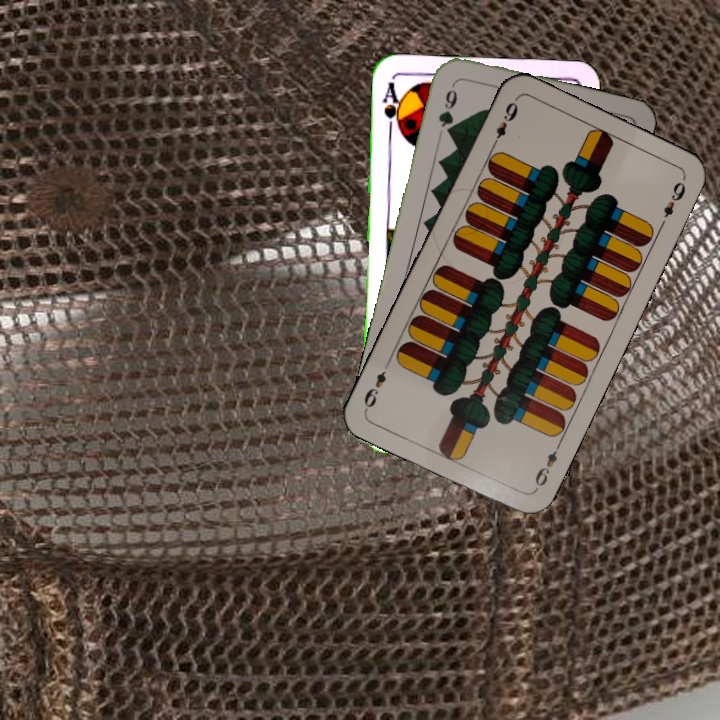E9: (487, 96, 521, 151), (530, 438, 564, 493)
G9: (434, 79, 460, 138)
SA: (379, 78, 405, 137)
